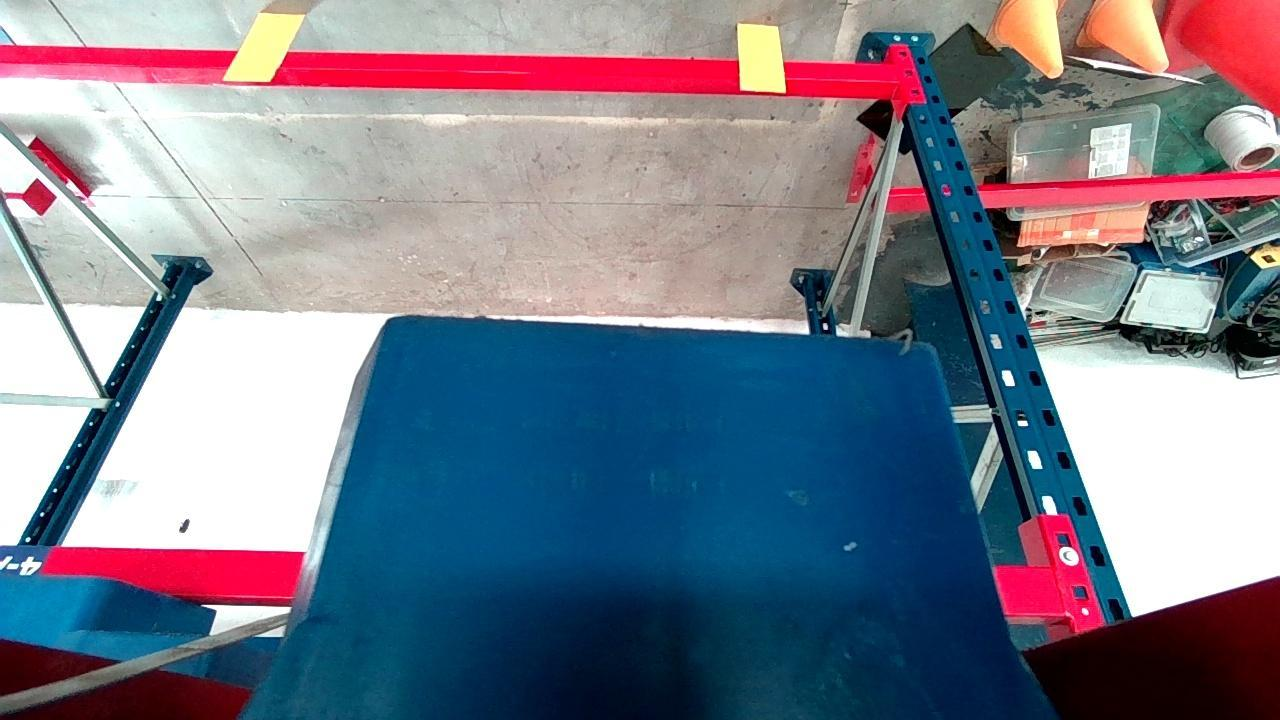h_rack: (379, 630, 1280, 672)
orange_strip: (979, 640, 1059, 705), (494, 627, 540, 695)
